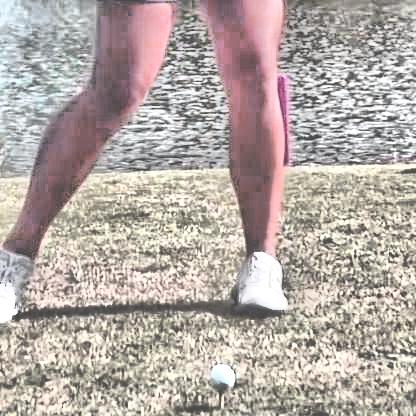golfball: (206, 361, 234, 393)
